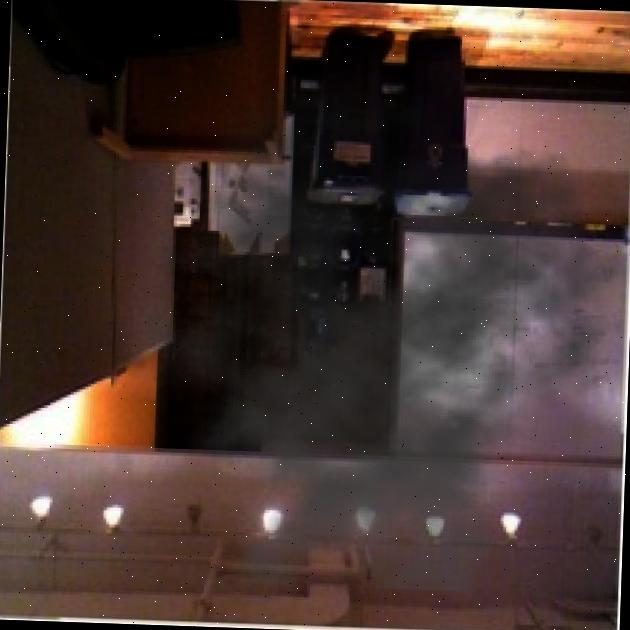smoke: (93, 58, 630, 596)
